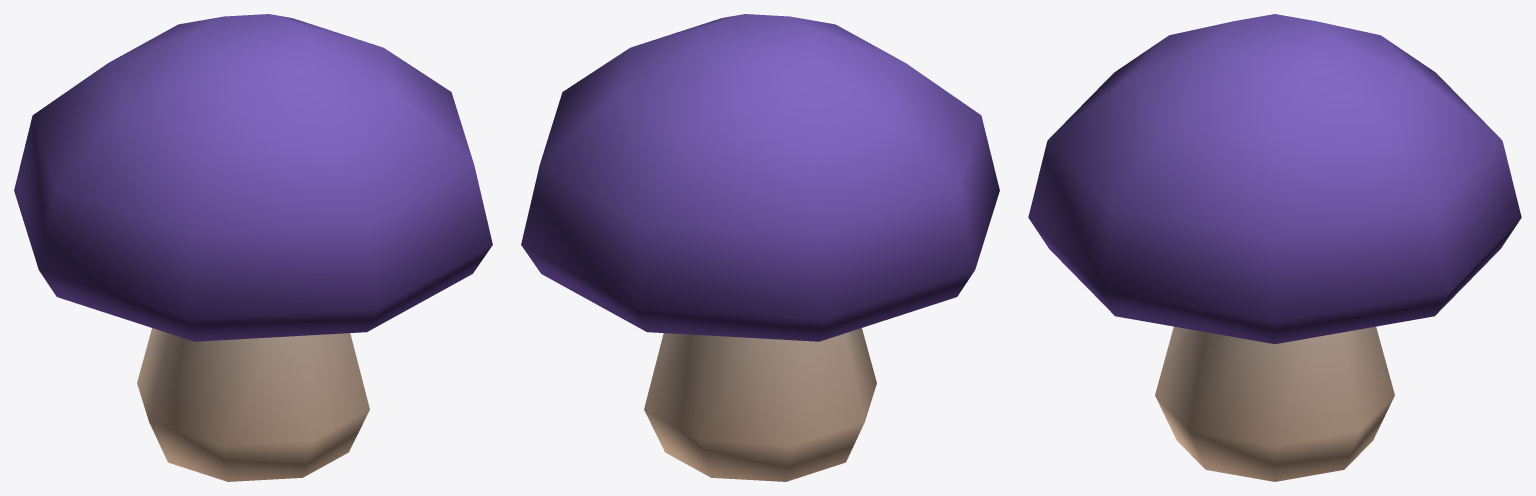
File: Mushroom1_Color4.fbx
3 renders of one model, left to right at view 1: azimuth 30°, elevation 25°; view 2: azimuth 150°, elevation 25°; view 3: azimuth 270°, elevation 25°, orthographic.
Visible parts, largest first — view 1: Mushroom1_Color4; view 2: Mushroom1_Color4; view 3: Mushroom1_Color4.
Boxes of the visible parts, x1,y1,x2,y2 form: Mushroom1_Color4: (14,14,492,481); Mushroom1_Color4: (521,14,999,481); Mushroom1_Color4: (1028,14,1521,481).
Bounding box in the file's own units: 13.93 × 12.51 × 13.93.
